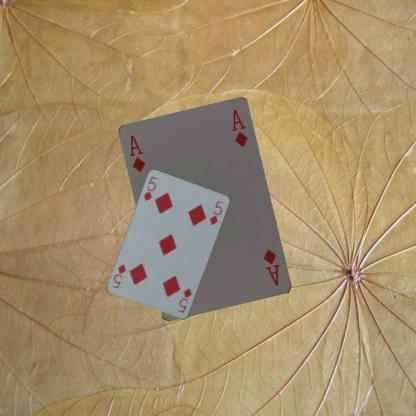5d: (175, 286, 193, 314), (141, 174, 158, 203)
Ad: (262, 246, 282, 288), (127, 133, 147, 174)
